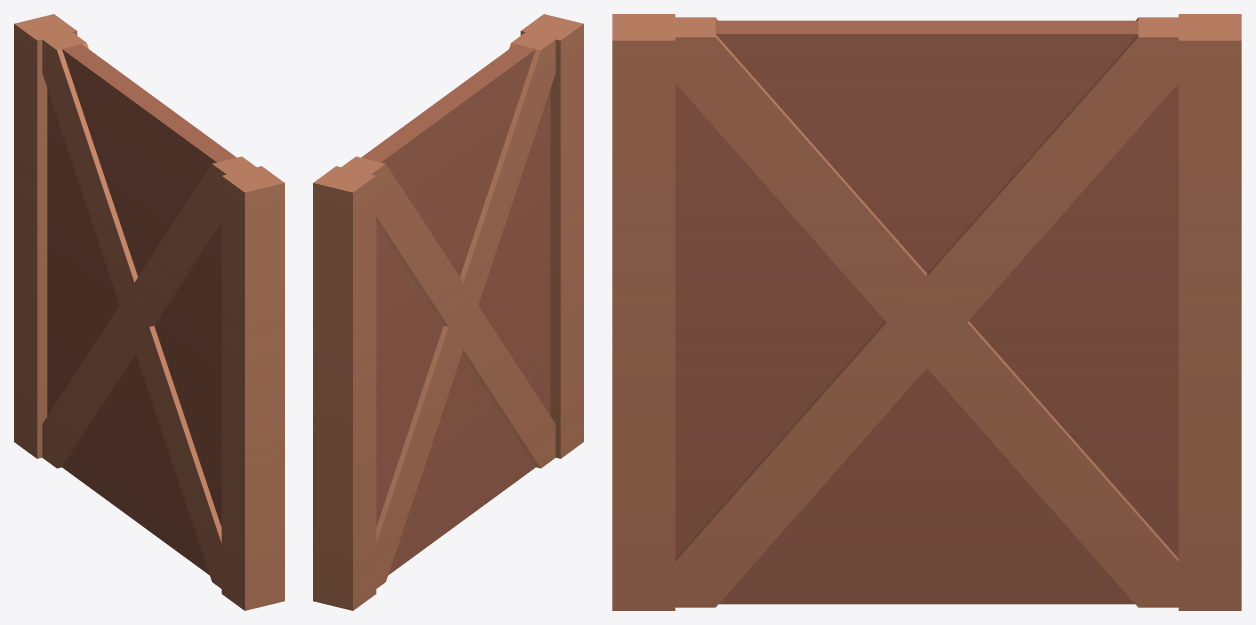
The model's file is wall-wood-detail-cross.fbx.
3 renders of one model, left to right at view 1: azimuth 30°, elevation 25°; view 2: azimuth 150°, elevation 25°; view 3: azimuth 270°, elevation 25°, orthographic. The views are drawn at different scales.
Visible parts, largest first — view 1: wall-wood-detail-cross; view 2: wall-wood-detail-cross; view 3: wall-wood-detail-cross.
Boxes of the visible parts, bbox=[...] form: wall-wood-detail-cross: bbox=[14, 14, 284, 610]; wall-wood-detail-cross: bbox=[313, 14, 583, 610]; wall-wood-detail-cross: bbox=[612, 14, 1241, 610].
Bounding box in the file's own units: 10 × 100 × 100.
Materials: 1 (1 with a texture image).
